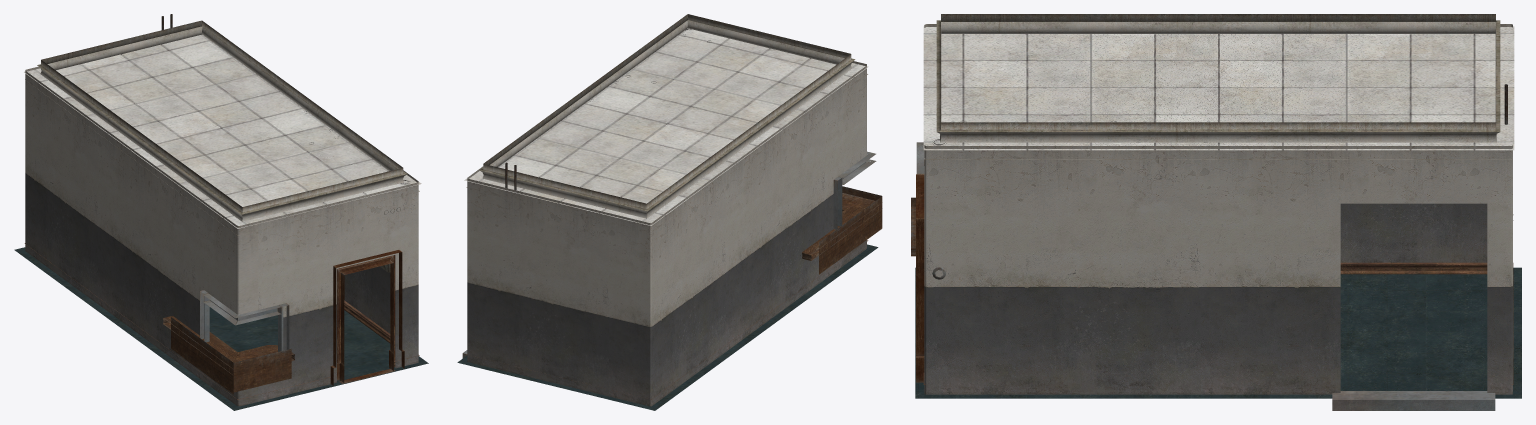
Rendered from st4_312_0_terrain_00ms.fbx.
3 renders of one model, left to right at view 1: azimuth 30°, elevation 25°; view 2: azimuth 150°, elevation 25°; view 3: azimuth 270°, elevation 25°, orthographic. The views are drawn at different scales.
Visible parts, largest first — view 1: LOD_1_Group_0_Sub_2__st2_police2FleftWall04, LOD_1_Group_0_Sub_6__st2_police2fleftCeiling04, LOD_1_Group_0_Sub_3__st2_police1fRightWall03, LOD_1_Group_0_Sub_1__st2_police2fLeftFloor06, LOD_1_Group_0_Sub_7__st2_police1fRightTable01, LOD_1_Group_0_Sub_12__st2_police1fLeftDoor02, LOD_1_Group_0_Sub_4__st2_police1fRightDoor11; view 2: LOD_1_Group_0_Sub_2__st2_police2FleftWall04, LOD_1_Group_0_Sub_6__st2_police2fleftCeiling04, LOD_1_Group_0_Sub_3__st2_police1fRightWall03, LOD_1_Group_0_Sub_7__st2_police1fRightTable01, LOD_1_Group_0_Sub_1__st2_police2fLeftFloor06, LOD_1_Group_0_Sub_4__st2_police1fRightDoor11; view 3: LOD_1_Group_0_Sub_2__st2_police2FleftWall04, LOD_1_Group_0_Sub_6__st2_police2fleftCeiling04, LOD_1_Group_0_Sub_3__st2_police1fRightWall03, LOD_1_Group_0_Sub_1__st2_police2fLeftFloor06, LOD_1_Group_0_Sub_4__st2_police1fRightDoor11, LOD_1_Group_0_Sub_12__st2_police1fLeftDoor02.
Boxes of the visible parts, x1,y1,x2,y2 form: LOD_1_Group_0_Sub_2__st2_police2FleftWall04: [25, 66, 418, 406]; LOD_1_Group_0_Sub_6__st2_police2fleftCeiling04: [24, 34, 421, 228]; LOD_1_Group_0_Sub_3__st2_police1fRightWall03: [24, 20, 419, 399]; LOD_1_Group_0_Sub_1__st2_police2fLeftFloor06: [14, 247, 428, 410]; LOD_1_Group_0_Sub_7__st2_police1fRightTable01: [163, 316, 294, 394]; LOD_1_Group_0_Sub_12__st2_police1fLeftDoor02: [330, 250, 404, 385]; LOD_1_Group_0_Sub_4__st2_police1fRightDoor11: [200, 290, 289, 351]; LOD_1_Group_0_Sub_2__st2_police2FleftWall04: [467, 61, 866, 406]; LOD_1_Group_0_Sub_6__st2_police2fleftCeiling04: [464, 28, 868, 225]; LOD_1_Group_0_Sub_3__st2_police1fRightWall03: [466, 14, 868, 399]; LOD_1_Group_0_Sub_7__st2_police1fRightTable01: [802, 186, 882, 274]; LOD_1_Group_0_Sub_1__st2_police2fLeftFloor06: [457, 244, 878, 410]; LOD_1_Group_0_Sub_4__st2_police1fRightDoor11: [462, 151, 876, 358]; LOD_1_Group_0_Sub_2__st2_police2FleftWall04: [924, 24, 1512, 394]; LOD_1_Group_0_Sub_6__st2_police2fleftCeiling04: [923, 26, 1514, 150]; LOD_1_Group_0_Sub_3__st2_police1fRightWall03: [923, 14, 1513, 384]; LOD_1_Group_0_Sub_1__st2_police2fLeftFloor06: [915, 267, 1521, 398]; LOD_1_Group_0_Sub_4__st2_police1fRightDoor11: [916, 142, 1495, 410]; LOD_1_Group_0_Sub_12__st2_police1fLeftDoor02: [916, 174, 924, 382].
Size of the model in its own units: 4.07 by 4.04 by 7.76.
